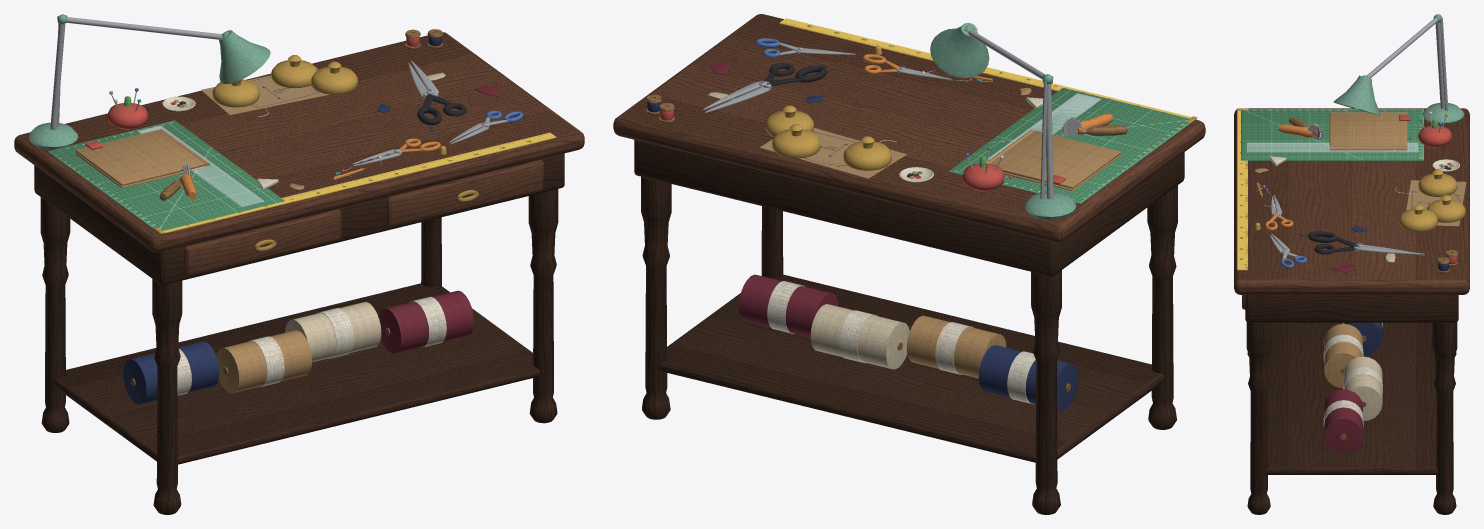
The model's file is worktable_v1.glb.
3 renders of one model, left to right at view 1: azimuth 30°, elevation 25°; view 2: azimuth 150°, elevation 25°; view 3: azimuth 270°, elevation 25°, orthographic. The views are drawn at different scales.
Parts seen in each view (by area): view 1: Base, Upg_cut_rotary, Upg_shop_lamp, Upg_cut_fold, Upg_cut_weights, Upg_cut_master, Upg_cut_pinking; view 2: Base, Upg_cut_rotary, Upg_shop_lamp, Upg_cut_fold, Upg_cut_weights, Upg_cut_master, Upg_cut_pinking; view 3: Base, Upg_cut_rotary, Upg_cut_fold, Upg_shop_lamp, Upg_cut_weights, Upg_cut_master, Upg_cut_pinking.
Part boxes in pixels (x1,y1,x2,y2): Base: (14,29,584,514); Upg_cut_rotary: (48,120,284,232); Upg_shop_lamp: (28,14,270,149); Upg_cut_fold: (75,128,209,188); Upg_cut_weights: (212,55,357,107); Upg_cut_master: (408,60,466,125); Upg_cut_pinking: (352,138,440,166); Base: (613,14,1205,514); Upg_cut_rotary: (948,88,1194,204); Upg_shop_lamp: (930,23,1076,219); Upg_cut_fold: (988,129,1120,191); Upg_cut_weights: (765,105,891,170); Upg_cut_master: (703,63,827,112); Upg_cut_pinking: (863,54,952,80); Base: (1234,108,1469,514); Upg_cut_rotary: (1241,109,1423,160); Upg_cut_fold: (1329,112,1410,151); Upg_shop_lamp: (1333,14,1464,124); Upg_cut_weights: (1399,169,1465,232); Upg_cut_master: (1308,231,1424,255); Upg_cut_pinking: (1265,195,1293,230).
Size of the model in its own units: 1.5 by 1.38 by 0.85.
Materials: 22 (21 with a texture image).
